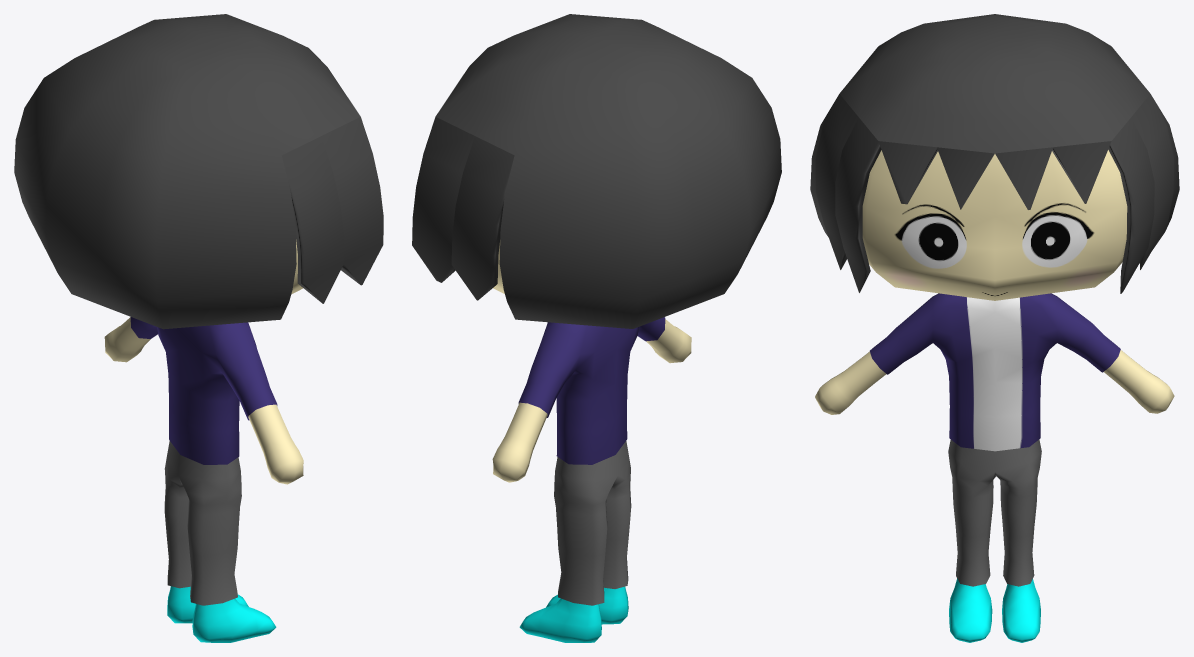
Rendered from player.fbx.
The picture shows the model from 3 angles, left to right: view 1: azimuth 30°, elevation 25°; view 2: azimuth 150°, elevation 25°; view 3: azimuth 270°, elevation 25°; orthographic projection. The views are drawn at different scales.
Visible parts, largest first — view 1: pCubeShape1; view 2: pCubeShape1; view 3: pCubeShape1.
Part boxes in pixels (x1,y1,x2,y2): pCubeShape1: [14, 14, 383, 642]; pCubeShape1: [412, 14, 781, 642]; pCubeShape1: [810, 14, 1179, 642].
Size of the model in its own units: 1.67 by 3.2 by 1.83.
Materials: 1 (1 with a texture image).
